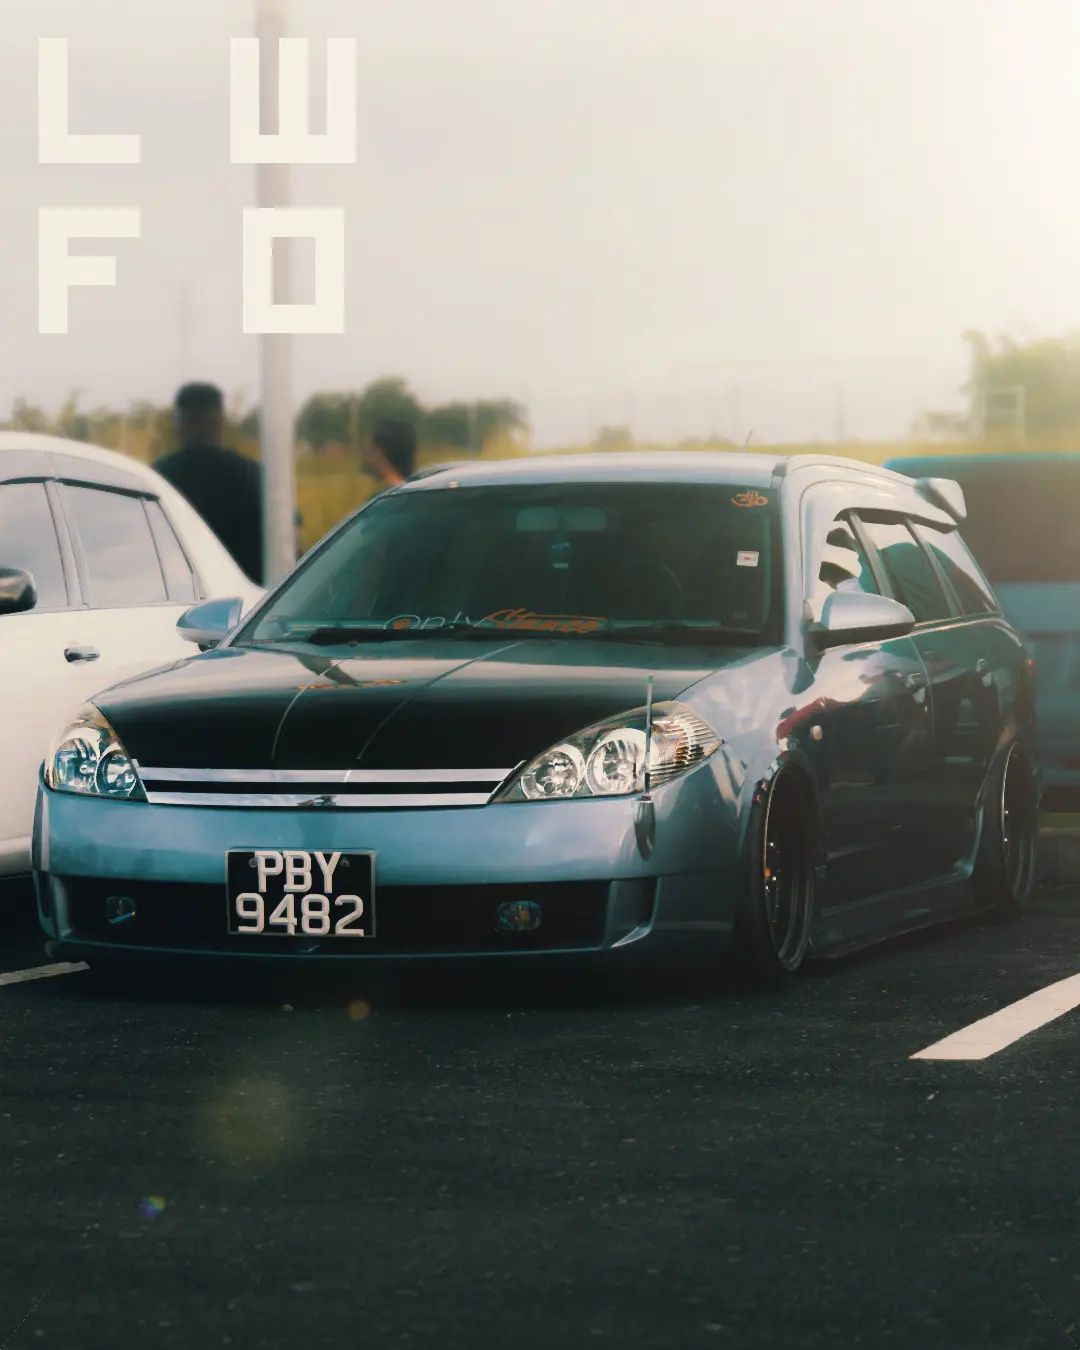License-Plate: (228, 848, 374, 935)
